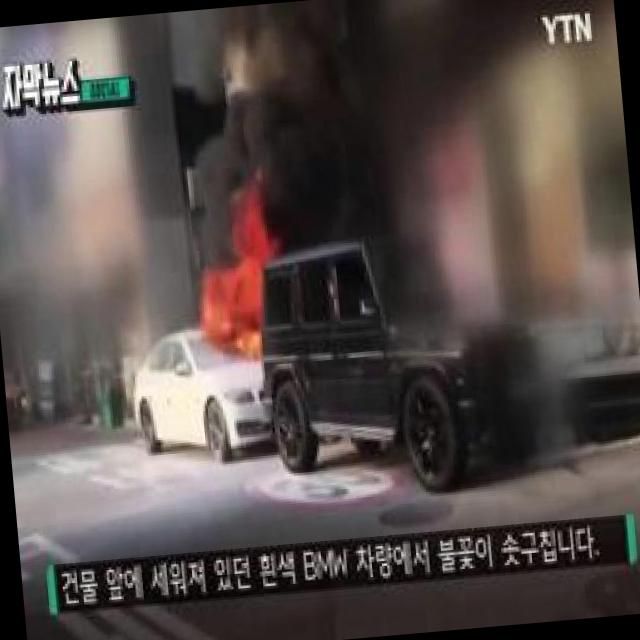Fire: (198, 231, 280, 360)
